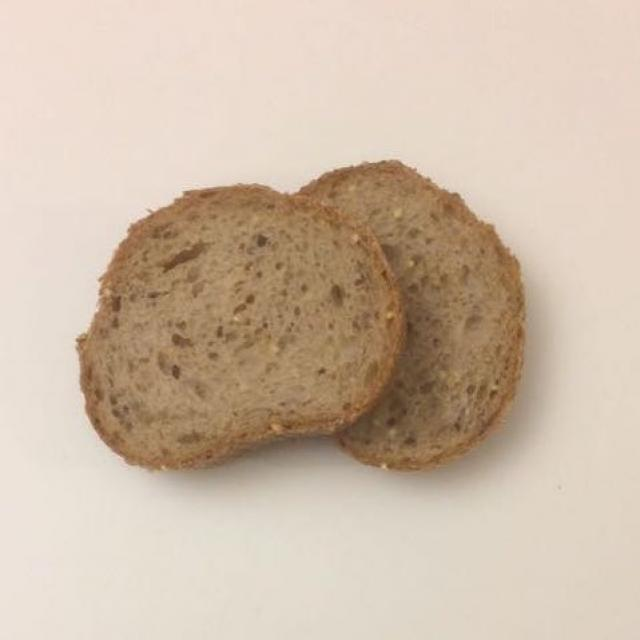bread: (83, 170, 536, 490)
